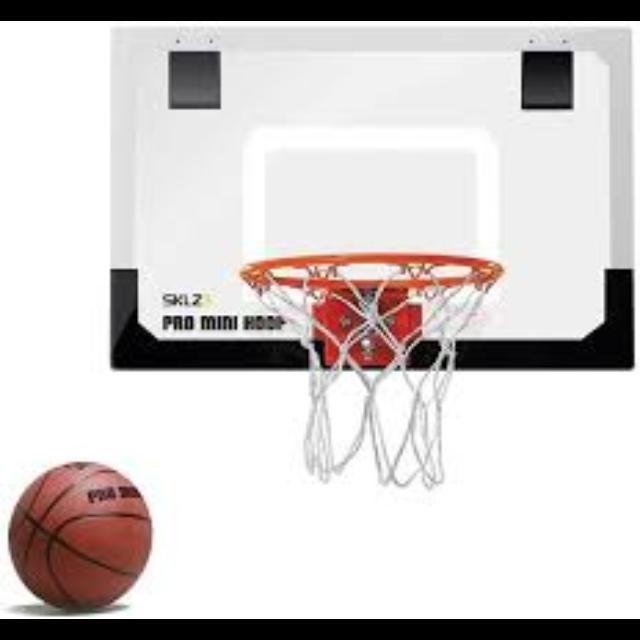basketball: (8, 462, 152, 606)
rim: (240, 253, 506, 492)
